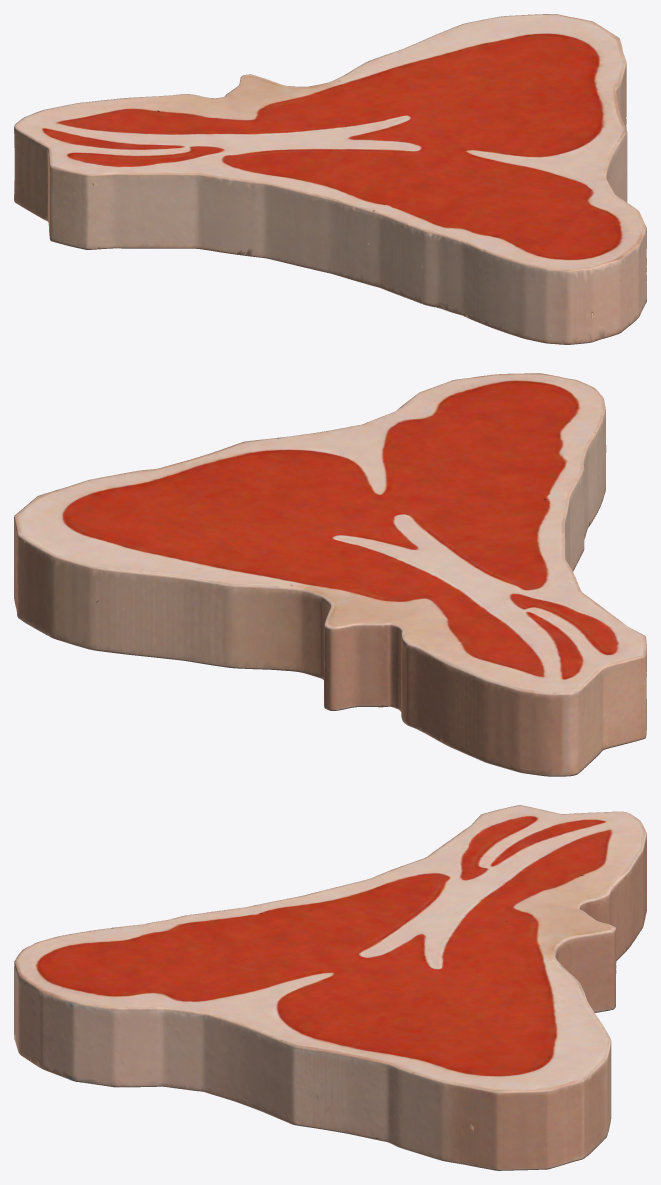
Rendered from steak.glb.
3 renders of one model, top to bottom at view 1: azimuth 30°, elevation 25°; view 2: azimuth 150°, elevation 25°; view 3: azimuth 270°, elevation 25°, orthographic. The views are drawn at different scales.
Size of the model in its own units: 2 by 0.2578 by 1.86.
Materials: 1 (1 with a texture image).
